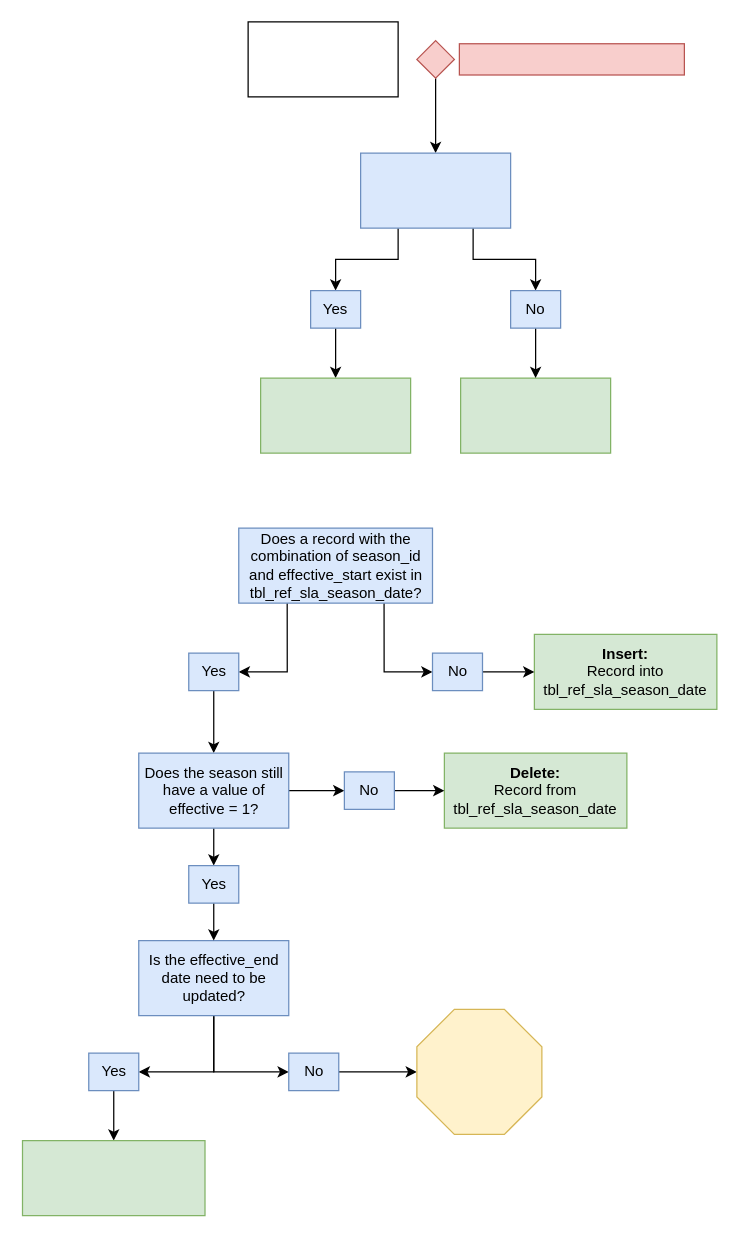
Image size: 739x1238. Some labels were removed from this diagram. The centre of each missing label's shape, as x and y in pixels:
"Calculate the effective_end date using the current date" belongs at point 535,415.
"Does the season have a effective_end date?" belongs at point 435,190.
"No Transaction Required" belongs at point 479,1071.
"sp_m_tbl_sla_season_date" belongs at point 571,58.
"This stored procedure is scheduled to run daily." belongs at point 322,59.
"Update: Record into tbl_ref_sla_season_date" belongs at point 113,1177.
"Use the effective_end date" belongs at point 335,415.
